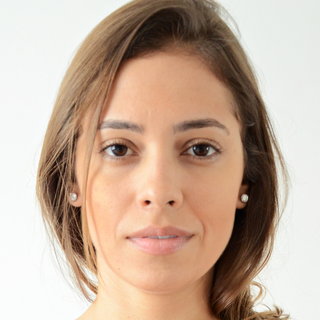eye: (172, 132, 229, 167), (93, 132, 142, 167)
